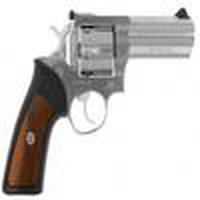gun: (3, 11, 189, 190)
